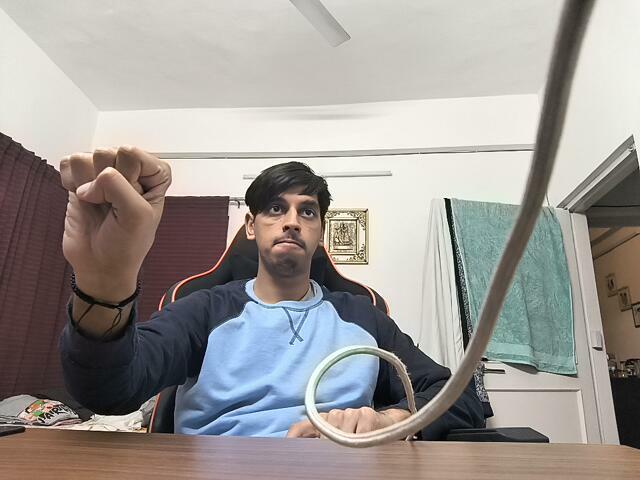DOWN: (48, 144, 180, 291)
